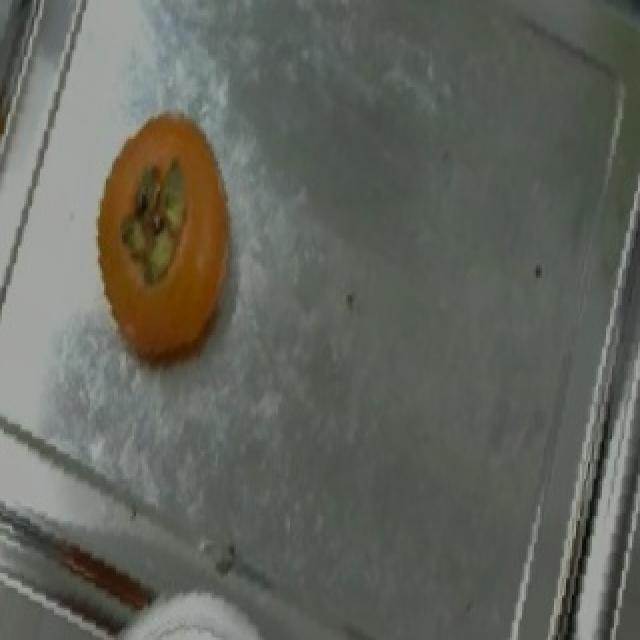Fruit: (68, 92, 258, 384)
